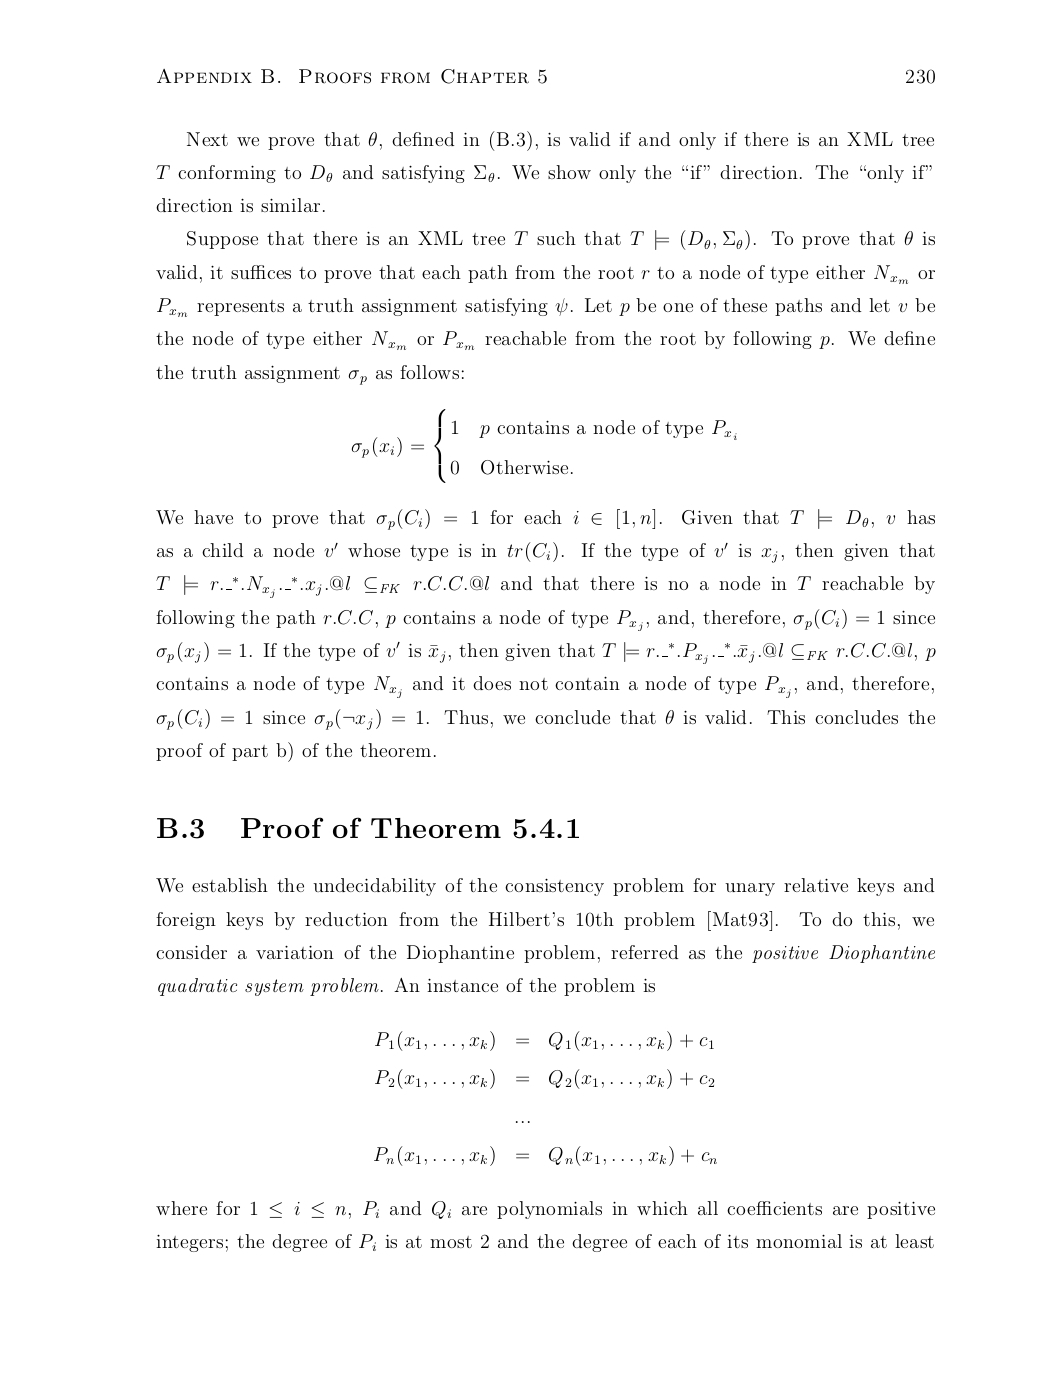formula: (351, 408, 736, 483), (374, 1145, 716, 1166), (374, 1068, 714, 1089), (374, 1030, 713, 1051)
